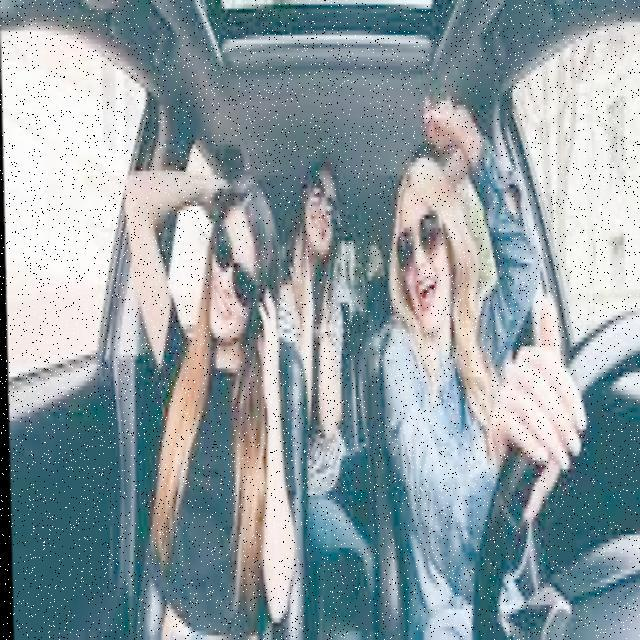noSeatbelt: (370, 276, 518, 640), (150, 306, 290, 636)
